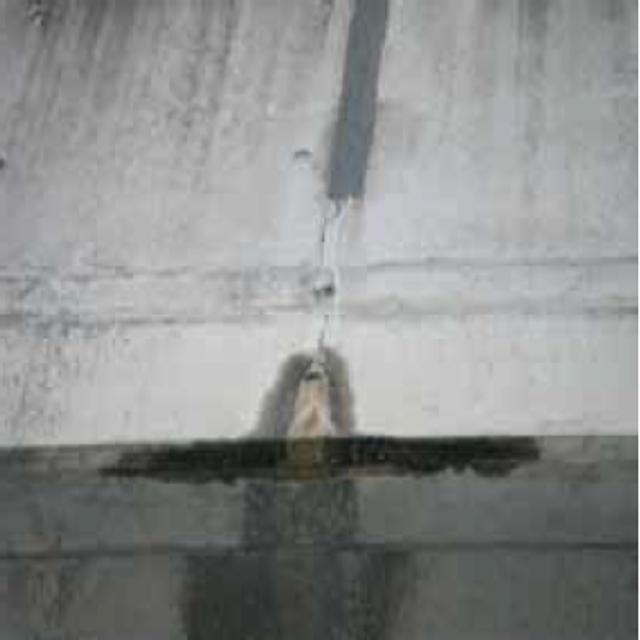leakage: (106, 336, 530, 634)
